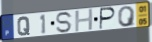1: (39, 13, 46, 35)
H: (74, 8, 95, 34)
P: (98, 7, 117, 31)
Q: (117, 5, 137, 28), (16, 15, 31, 37)
S: (55, 11, 74, 34)
